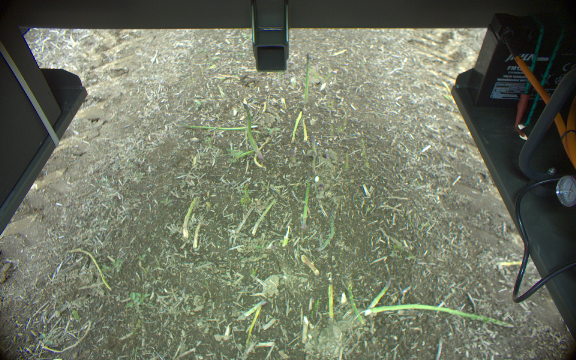aspa: (362, 301, 513, 329), (242, 103, 265, 161), (315, 201, 337, 251), (364, 278, 391, 313), (345, 285, 364, 324), (185, 122, 260, 131), (299, 175, 311, 225), (302, 52, 312, 105), (308, 133, 316, 154)
